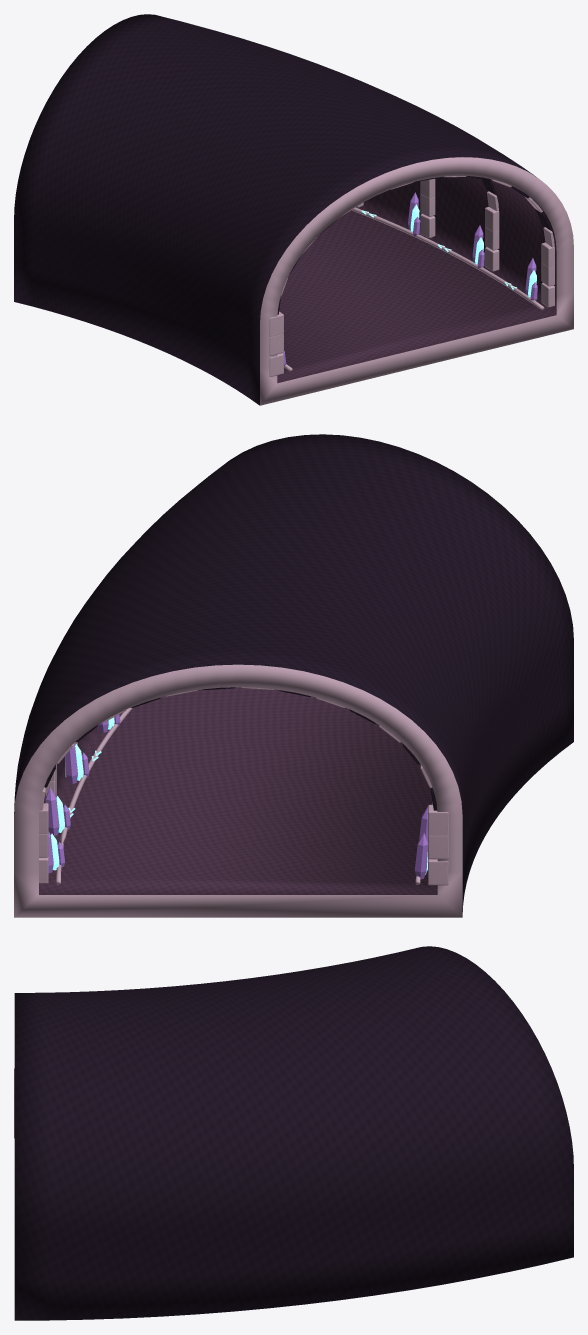
File: curve_left_30.glb
The picture shows the model from 3 angles, top to bottom: view 1: azimuth 30°, elevation 25°; view 2: azimuth 150°, elevation 25°; view 3: azimuth 270°, elevation 25°; orthographic projection. The views are drawn at different scales.
Visible parts, largest first — view 1: TunnelGeometry; view 2: TunnelGeometry; view 3: TunnelGeometry.
Part boxes in pixels (x1=…): TunnelGeometry: x1=14, y1=14, x2=573, y2=405; TunnelGeometry: x1=14, y1=434, x2=573, y2=917; TunnelGeometry: x1=14, y1=946, x2=573, y2=1320.
Bounding box in the file's own units: 19.1 × 9.52 × 21.85.
5 materials, 2 textured.
